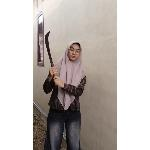Golok: (42, 28, 62, 82)
